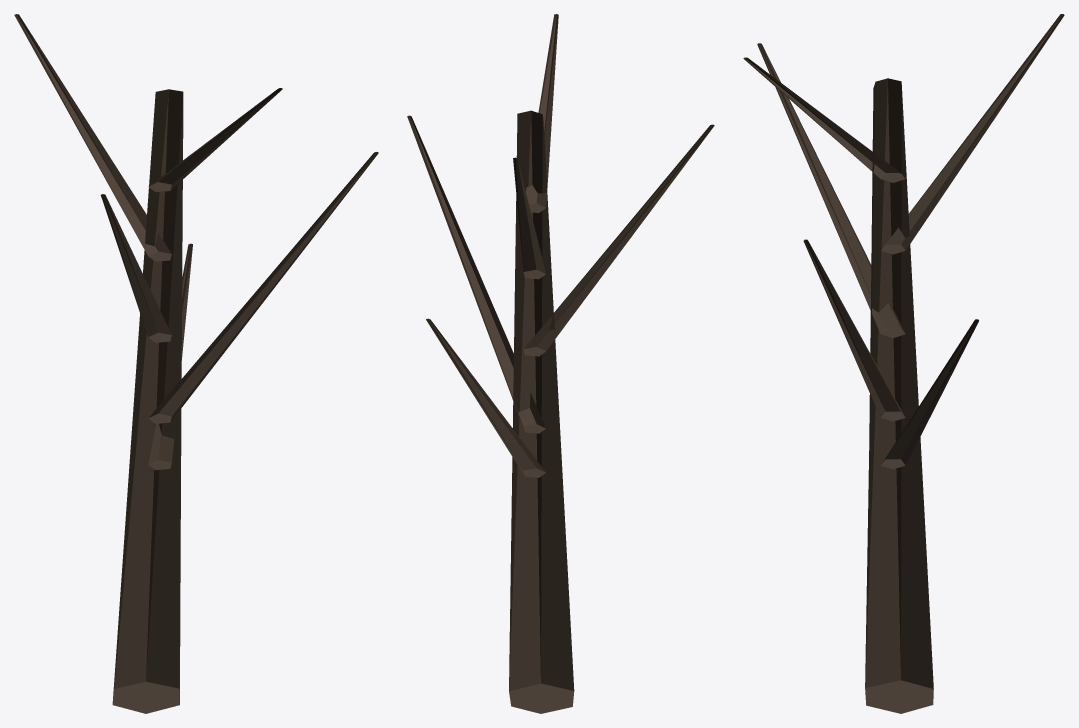
File: dead_tree.glb
3 renders of one model, left to right at view 1: azimuth 30°, elevation 25°; view 2: azimuth 150°, elevation 25°; view 3: azimuth 270°, elevation 25°, orthographic. The views are drawn at different scales.
Parts seen in each view (by area): view 1: dead_tree; view 2: dead_tree; view 3: dead_tree.
Boxes of the visible parts, x1,y1,x2,y2 form: dead_tree: [14, 14, 378, 713]; dead_tree: [407, 14, 714, 713]; dead_tree: [743, 14, 1064, 713].
Size of the model in its own units: 2.71 by 5.6 by 2.44.
